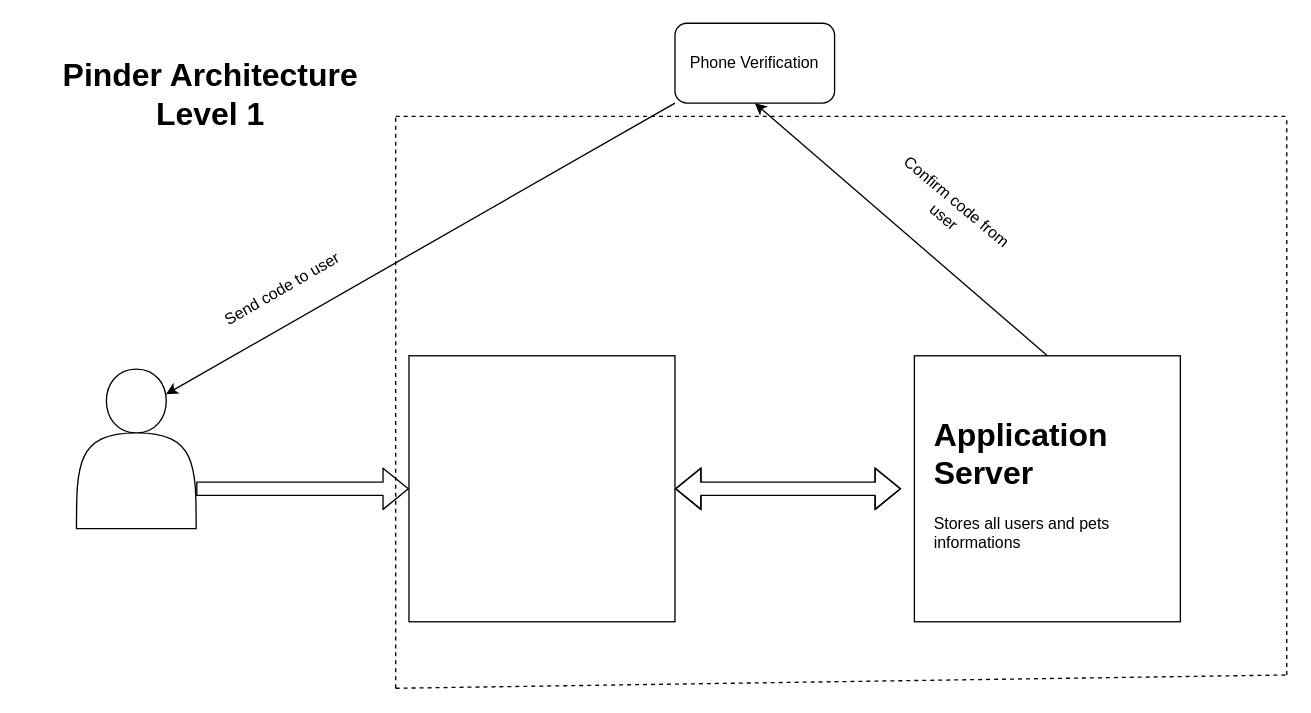
Some shapes in this 1311 by 713 pixel diagram are drawn without their labels. The box of each missing label's shape, as (x1, y1, x2, y2) in pixels:
Moblie Application allow users to view pets informations and manage them: (408, 354, 675, 622)
User: (75, 368, 196, 529)
